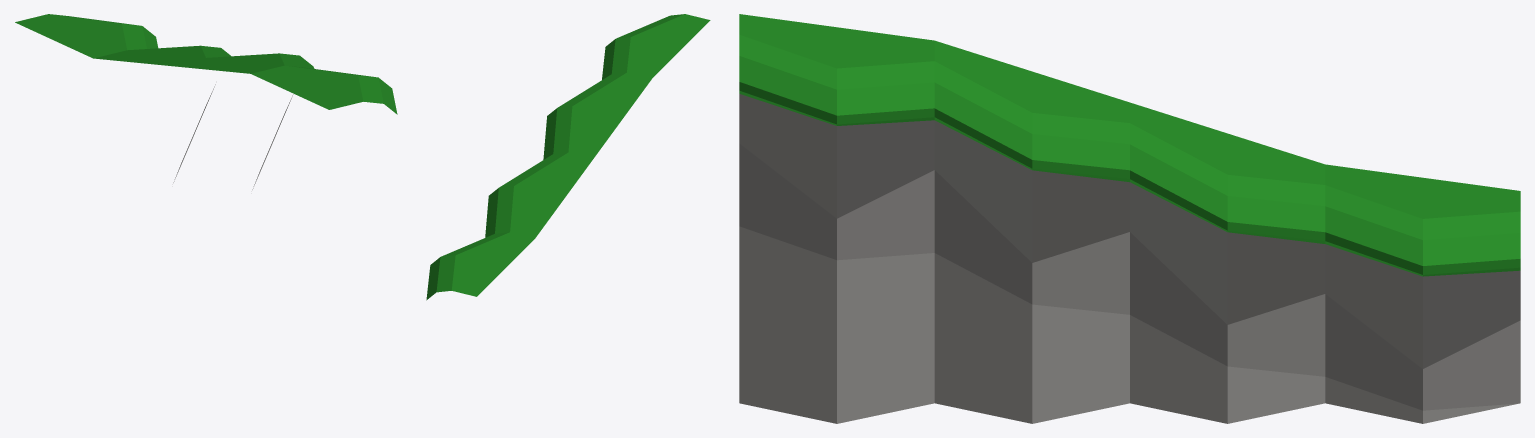
Rendered from Cliff_Terrain_Hill_Gentle_Top.glb.
3 renders of one model, left to right at view 1: azimuth 30°, elevation 25°; view 2: azimuth 150°, elevation 25°; view 3: azimuth 270°, elevation 25°, orthographic. The views are drawn at different scales.
Parts seen in each view (by area): view 1: Cliff_Terrain_Hill_Gentle_Top; view 2: Cliff_Terrain_Hill_Gentle_Top; view 3: Cliff_Terrain_Hill_Gentle_Top.
Boxes of the visible parts, x1=… form: Cliff_Terrain_Hill_Gentle_Top: x1=15, y1=14, x2=397, y2=189; Cliff_Terrain_Hill_Gentle_Top: x1=426, y1=14, x2=710, y2=300; Cliff_Terrain_Hill_Gentle_Top: x1=739, y1=14, x2=1520, y2=423.
Bounding box in the file's own units: 0.75 × 2.2 × 4.
